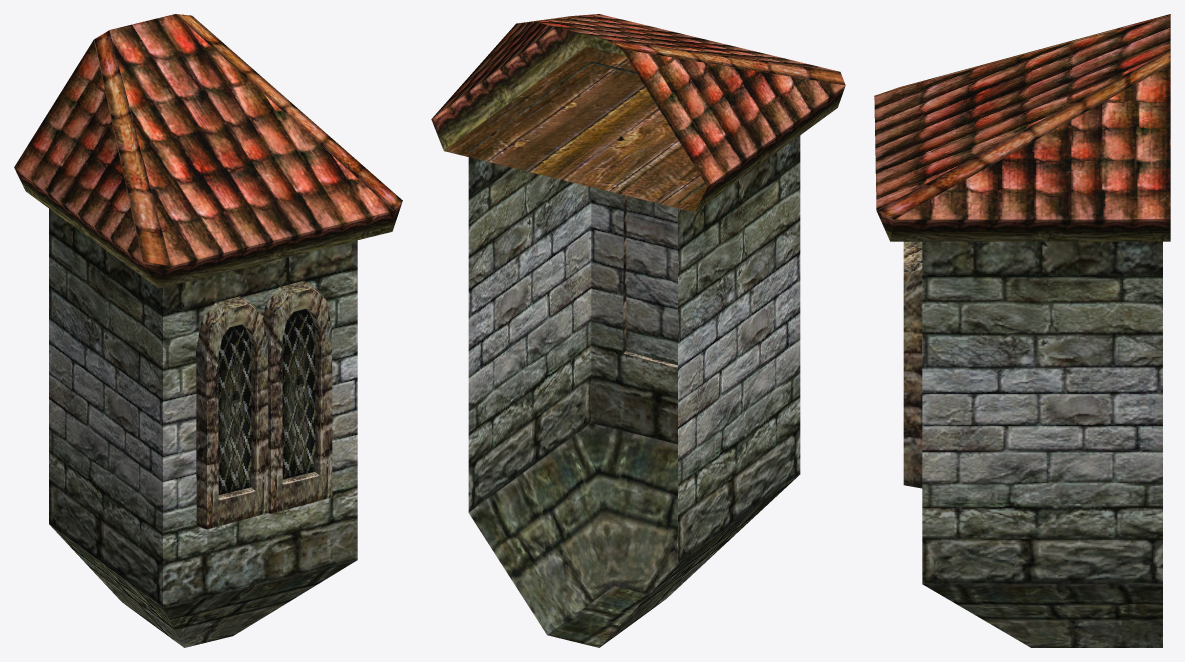
The picture shows the model from 3 angles, left to right: view 1: azimuth 30°, elevation 25°; view 2: azimuth 150°, elevation 25°; view 3: azimuth 270°, elevation 25°; orthographic projection. The views are drawn at different scales.
Parts seen in each view (by area): view 1: cc83-col; view 2: cc83-col; view 3: cc83-col.
Boxes of the visible parts, x1,y1,x2,y2 form: cc83-col: (14, 14, 402, 647); cc83-col: (431, 14, 845, 647); cc83-col: (874, 14, 1170, 647).
Size of the model in its own units: 3.2 by 6.78 by 3.02.
Materials: 7 (7 with a texture image).
